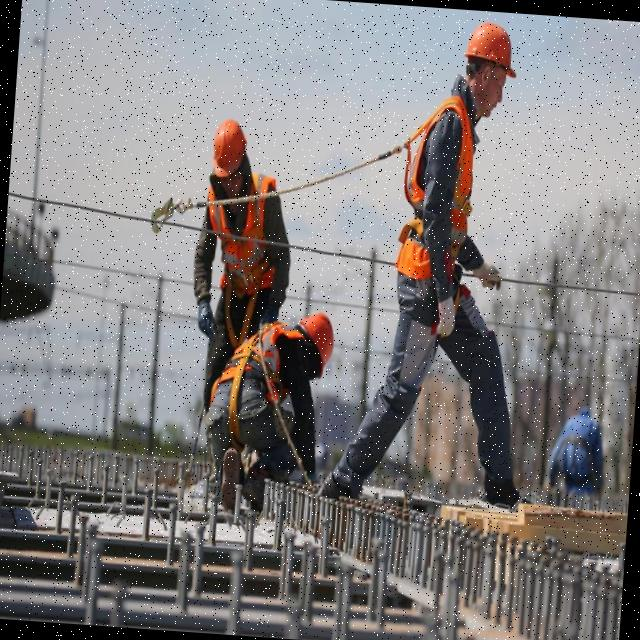Helmet: (462, 22, 520, 85), (295, 311, 336, 378), (211, 118, 250, 183)
Jacket: (408, 87, 482, 286), (224, 323, 309, 431), (205, 185, 280, 292)
